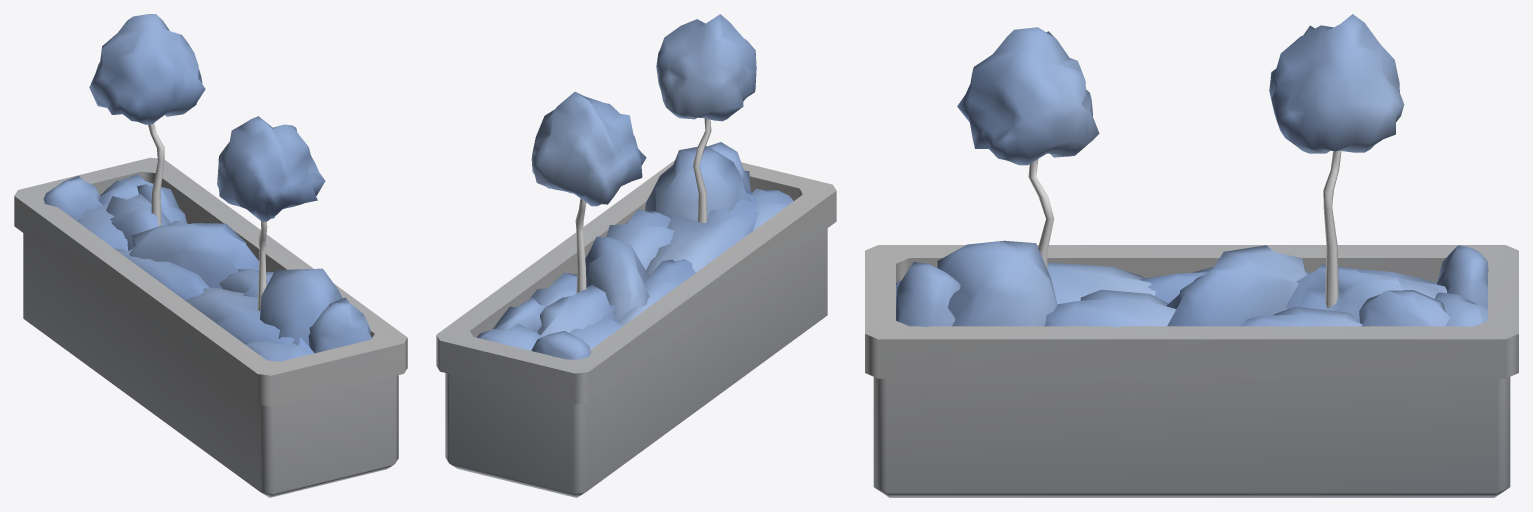
Rendered from puukasvi.fbx.
The picture shows the model from 3 angles, left to right: view 1: azimuth 30°, elevation 25°; view 2: azimuth 150°, elevation 25°; view 3: azimuth 270°, elevation 25°; orthographic projection. The views are drawn at different scales.
Parts seen in each view (by area): view 1: puu_istutus; view 2: puu_istutus; view 3: puu_istutus.
Part boxes in pixels (box(x1,y1,x2,y2)): puu_istutus: box(14, 14, 407, 497); puu_istutus: box(436, 14, 836, 497); puu_istutus: box(865, 14, 1518, 497).
Size of the model in its own units: 7.85 by 17.04 by 22.99.
